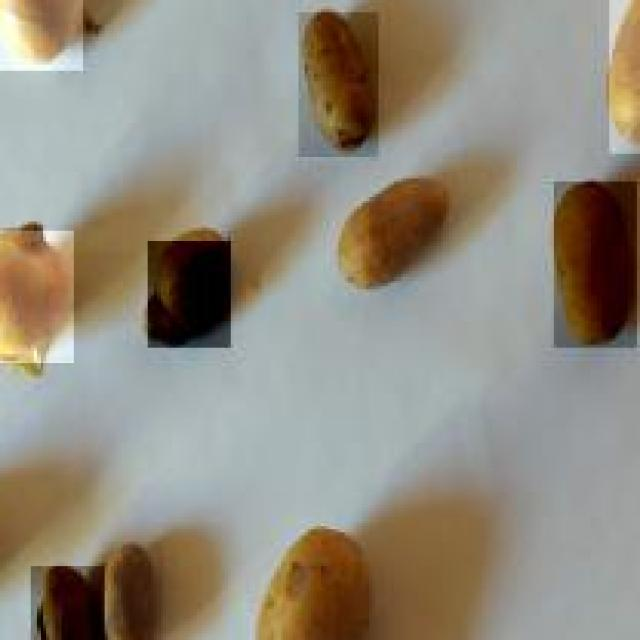onion: (0, 225, 71, 363), (144, 237, 230, 348), (27, 563, 104, 640), (0, 0, 83, 71)
potato: (550, 178, 636, 348), (252, 526, 372, 640), (338, 180, 452, 290), (296, 9, 378, 157), (99, 538, 163, 640), (606, 0, 640, 154)
